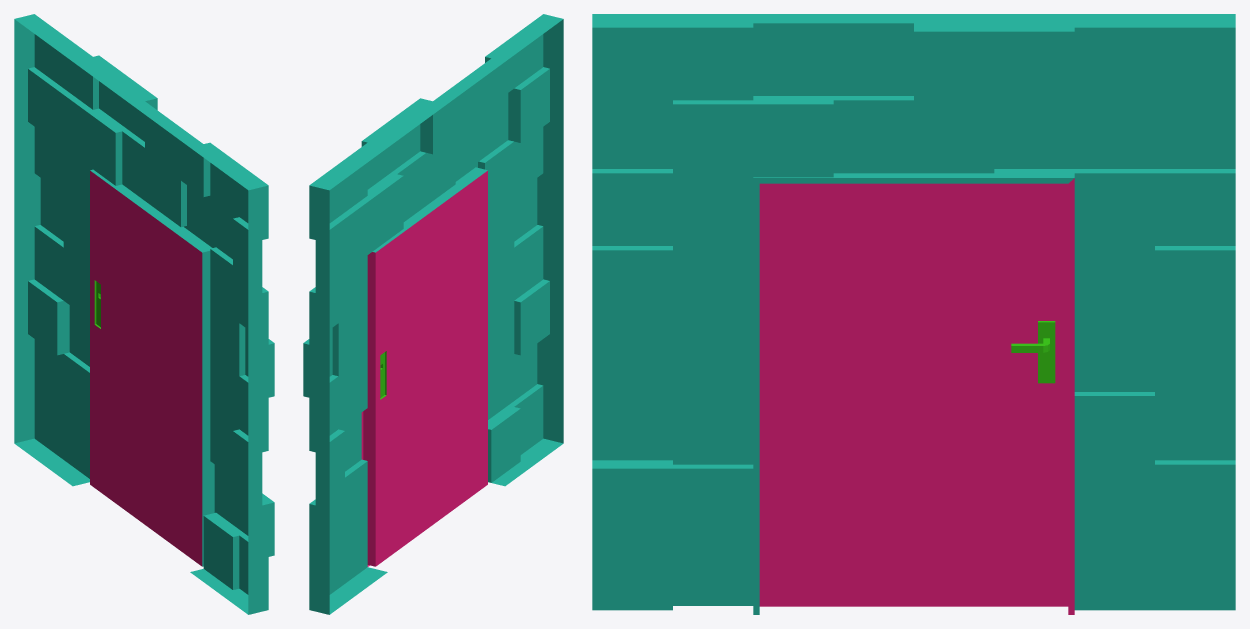
The model's file is Wall_FinalDoor_Final.fbx.
3 renders of one model, left to right at view 1: azimuth 30°, elevation 25°; view 2: azimuth 150°, elevation 25°; view 3: azimuth 270°, elevation 25°, orthographic. The views are drawn at different scales.
Parts seen in each view (by area): view 1: FinalDoor; view 2: FinalDoor; view 3: FinalDoor.
Boxes of the visible parts, x1,y1,x2,y2 form: FinalDoor: (14,14,274,614); FinalDoor: (303,14,563,614); FinalDoor: (592,14,1235,614).
Size of the model in its own units: 6.88 by 100 by 100.
